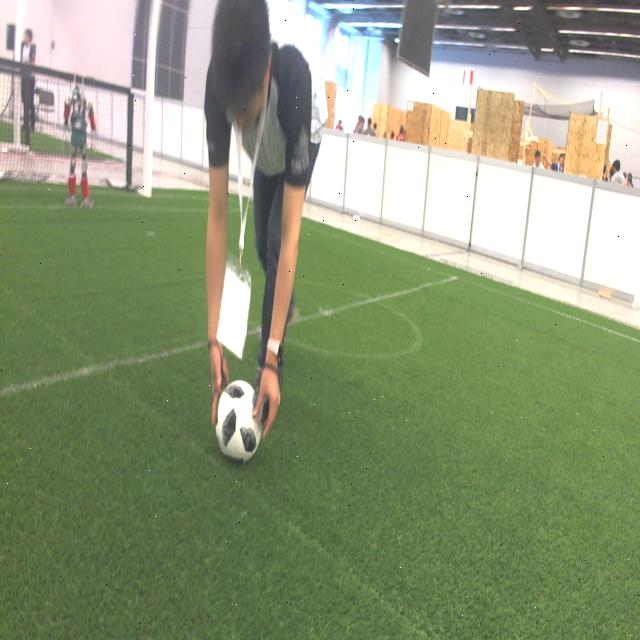ball: (213, 378, 264, 466)
goalpost: (142, 1, 162, 198)
